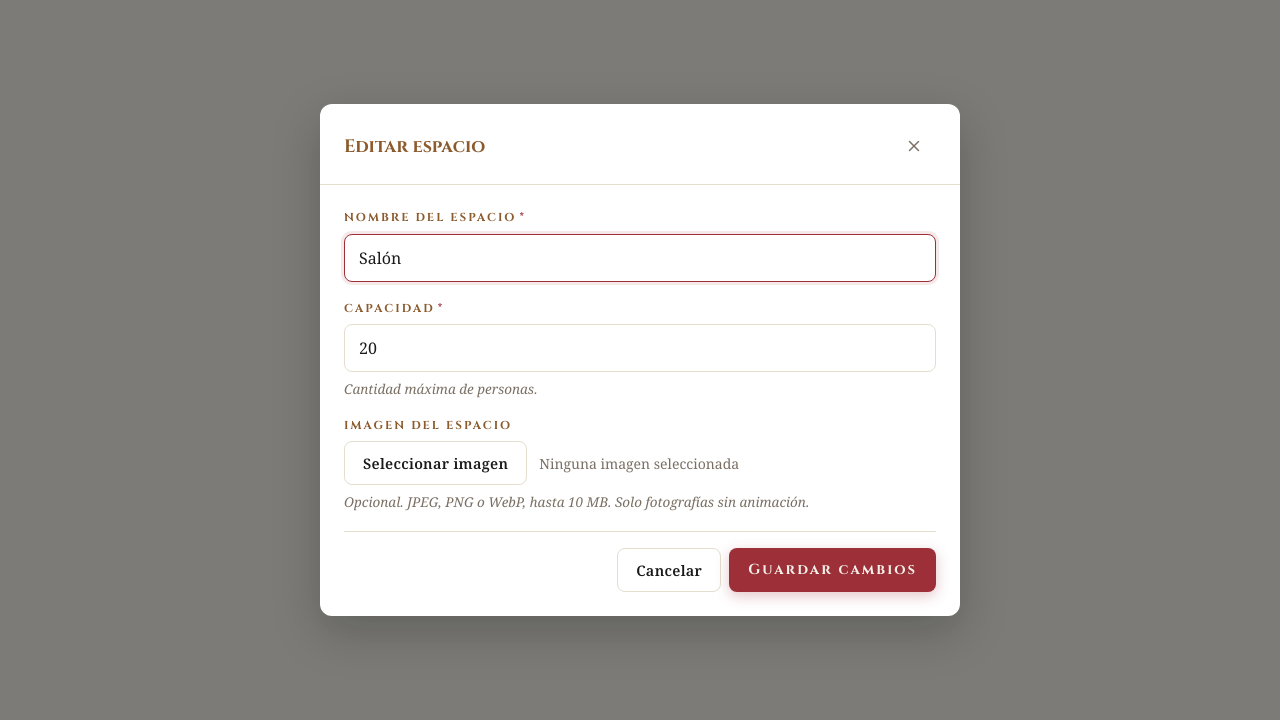
Test: validación y envío de espacios › no envía capacidad inválida  incluso con envío programático
Clear the number field labelled "Capacidad*" at point(640, 348), box [344,324,936,372]
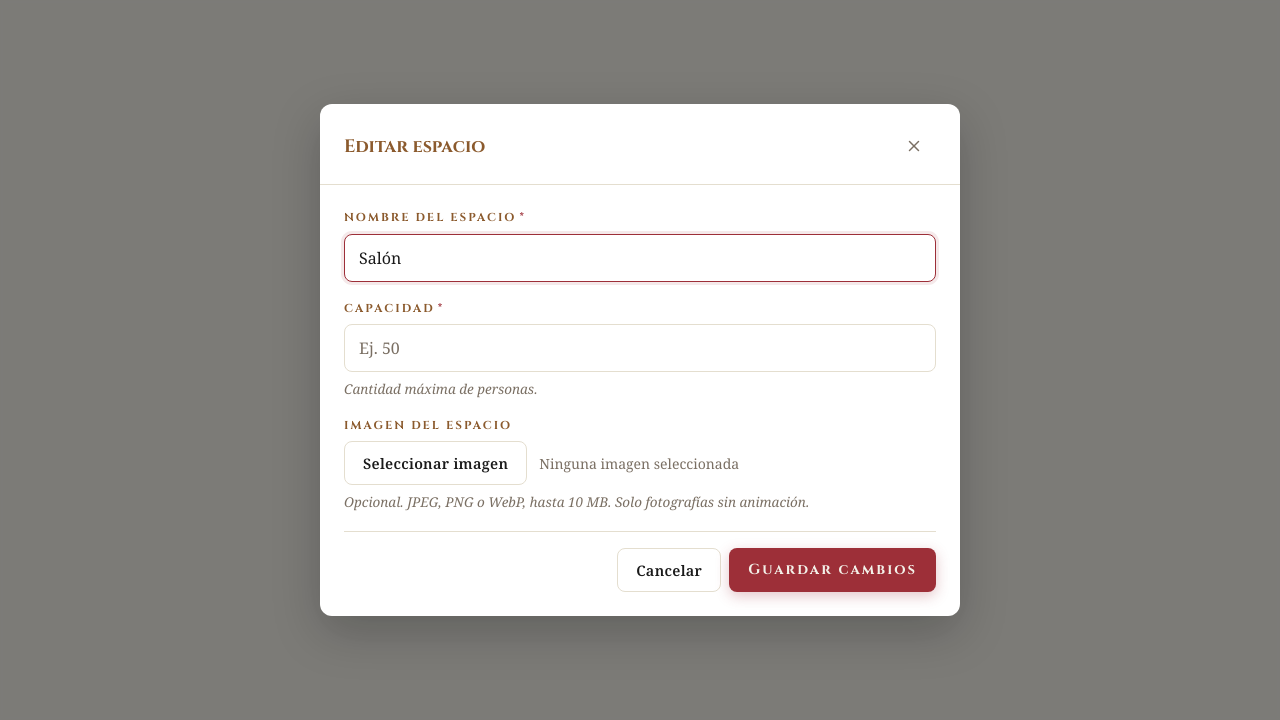
Submit the form labelled "Capacidad", box [344,209,936,592]
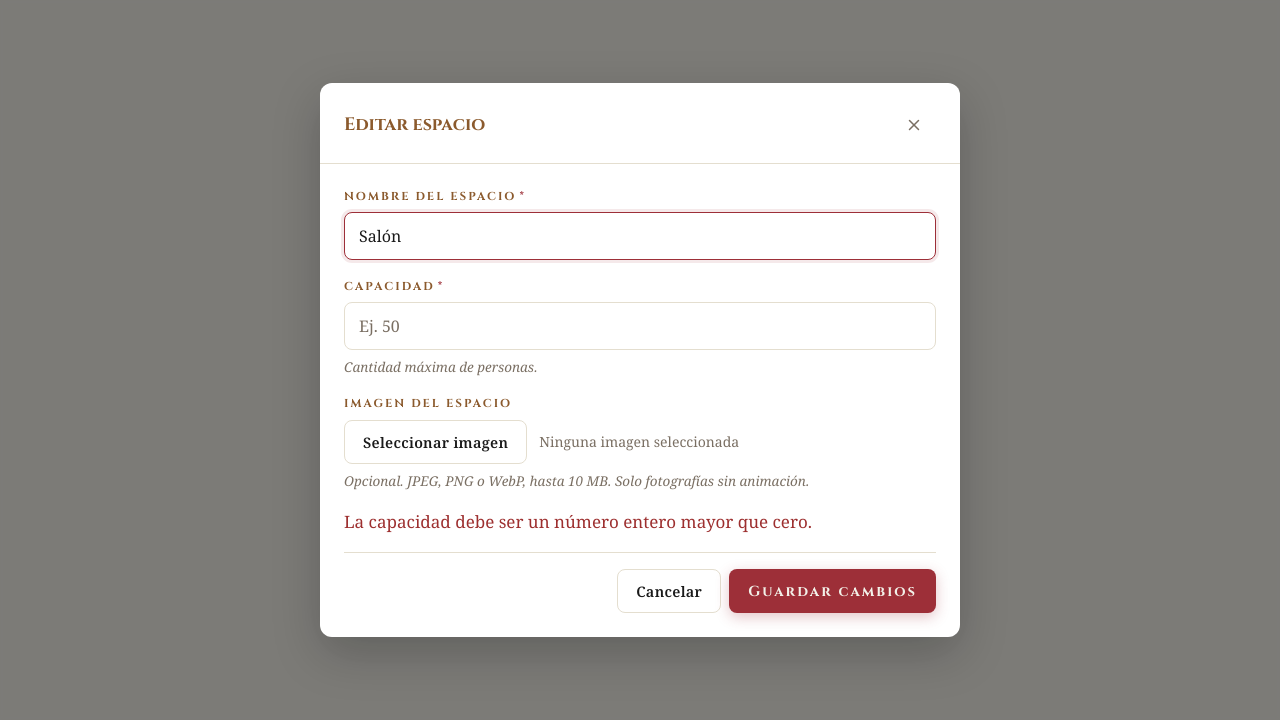
Result: the message shows "entero mayor que cero" at [344,510,812,533]
